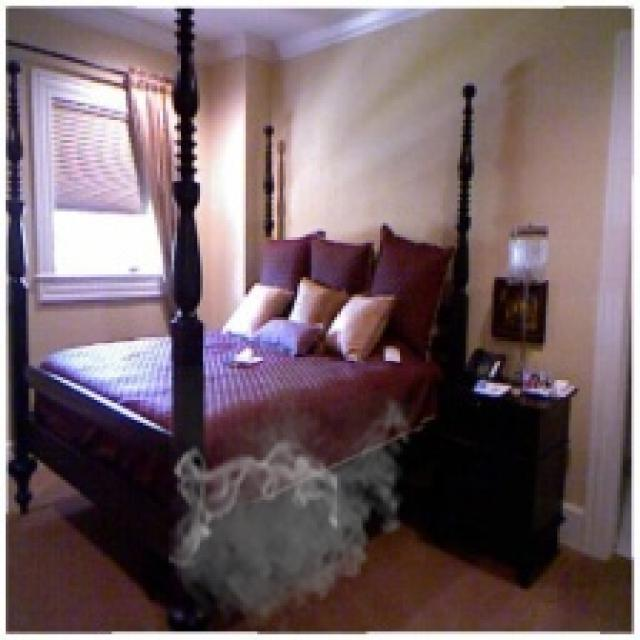smoke: (166, 366, 420, 637)
